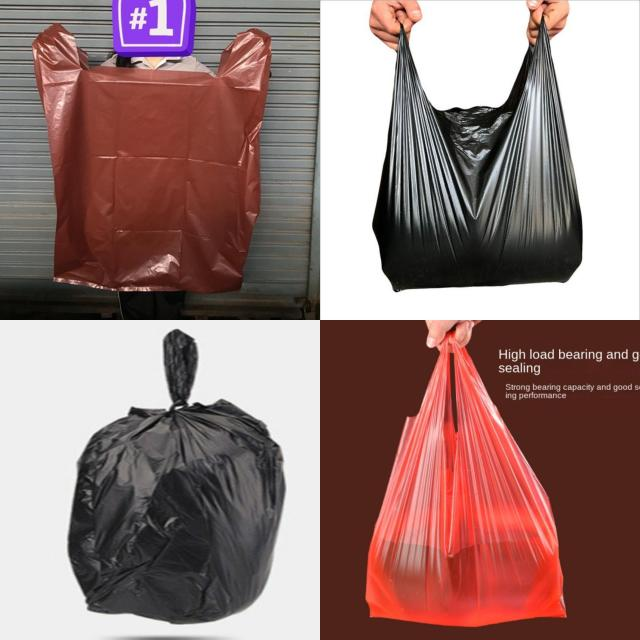Single-layer Plastic: (34, 24, 271, 292), (69, 330, 285, 624), (366, 334, 565, 626), (374, 22, 581, 291)
